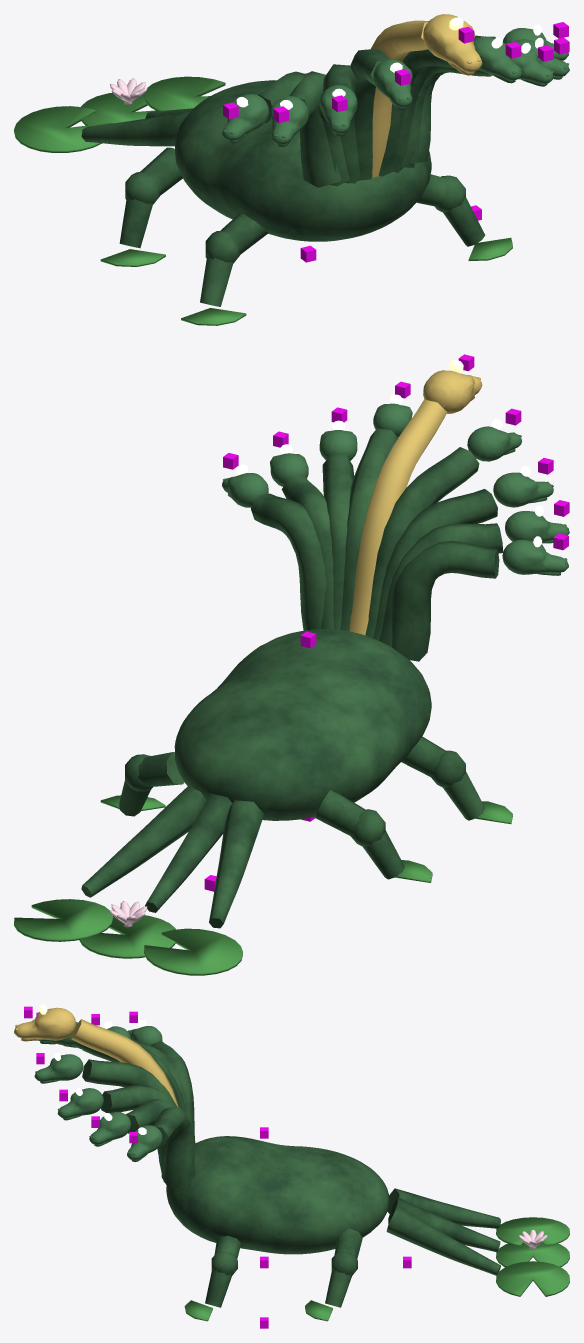
The model's file is 06_idra_di_lerna.glb.
3 views of the same model, one above another, from view 1: azimuth 30°, elevation 25°; view 2: azimuth 150°, elevation 25°; view 3: azimuth 270°, elevation 25° (orthographic). The views are drawn at different scales.
Parts seen in each view (by area): view 1: Idra__Pelle_Palude, Idra__Code_Ninfea, Idra__Testine, Idra__Testa_Centrale_Oro, Idra__Luci_Fronte, Idra__Fiore_Ninfea; view 2: Idra__Pelle_Palude, Idra__Code_Ninfea, Idra__Testine, Idra__Testa_Centrale_Oro, Idra__Luci_Fronte; view 3: Idra__Pelle_Palude, Idra__Code_Ninfea, Idra__Testine, Idra__Testa_Centrale_Oro.
Boxes of the visible parts, left/top/right/bottom form: Idra__Pelle_Palude: left=81, top=35, right=495, bottom=306; Idra__Code_Ninfea: left=14, top=76, right=512, bottom=325; Idra__Testine: left=222, top=28, right=569, bottom=146; Idra__Testa_Centrale_Oro: left=371, top=14, right=482, bottom=177; Idra__Luci_Fronte: left=236, top=24, right=543, bottom=109; Idra__Fiore_Ninfea: left=110, top=78, right=147, bottom=104; Idra__Pelle_Palude: left=81, top=428, right=502, bottom=928; Idra__Code_Ninfea: left=14, top=795, right=512, bottom=975; Idra__Testine: left=222, top=403, right=569, bottom=575; Idra__Testa_Centrale_Oro: left=349, top=370, right=482, bottom=635; Idra__Luci_Fronte: left=236, top=394, right=543, bottom=547; Idra__Pelle_Palude: left=82, top=1040, right=500, bottom=1307; Idra__Code_Ninfea: left=184, top=1217, right=569, bottom=1321; Idra__Testine: left=34, top=1021, right=162, bottom=1161; Idra__Testa_Centrale_Oro: left=14, top=1007, right=178, bottom=1107.
Bounding box in the file's own units: 3.12 × 3.03 × 5.84.
Materials: 9 (1 with a texture image).
